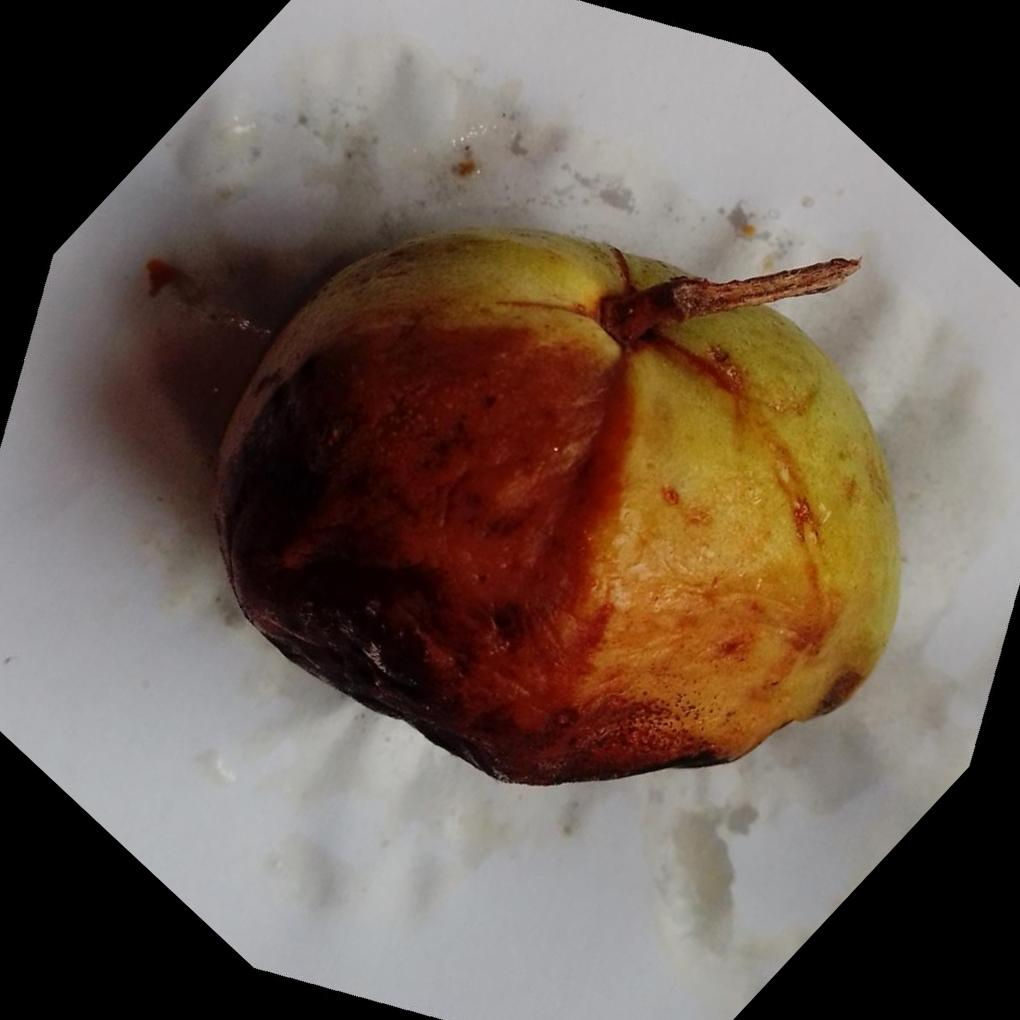FreshOrange: (210, 228, 902, 785)
